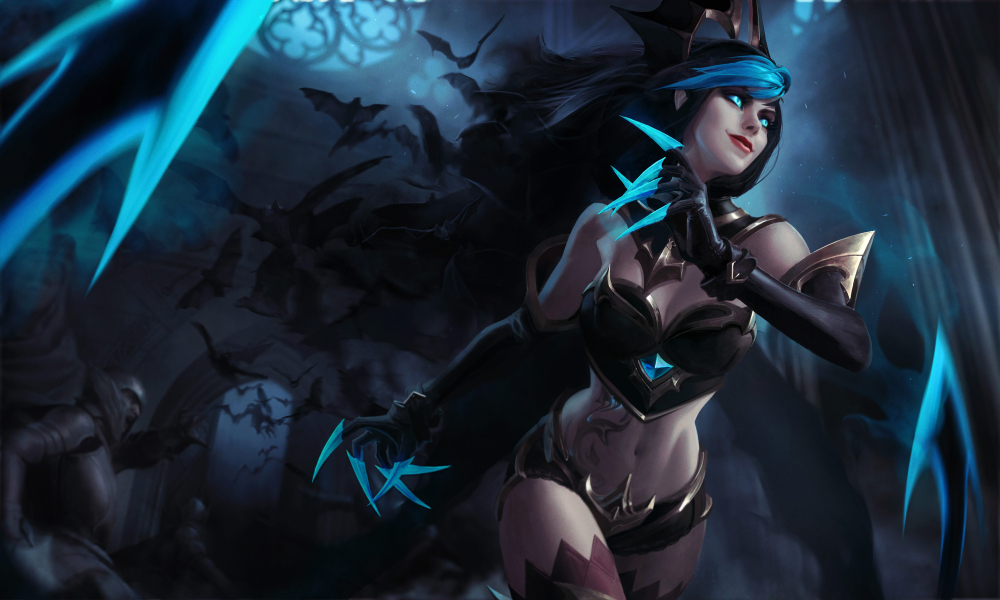face: (628, 21, 810, 213)
